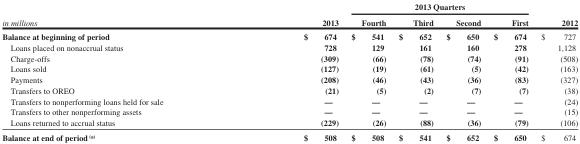table: (1, 1, 577, 141)
table column: (1, 1, 232, 141), (232, 1, 344, 141), (391, 1, 439, 141), (486, 1, 534, 141), (344, 1, 391, 141), (439, 1, 486, 141), (534, 1, 577, 141)
table column header: (1, 1, 577, 28)
table row: (1, 13, 577, 28), (1, 28, 577, 41), (1, 116, 577, 129), (1, 1, 577, 13), (1, 129, 577, 141), (1, 41, 577, 52), (1, 52, 577, 63), (1, 73, 577, 84), (1, 84, 577, 95), (1, 105, 577, 116), (1, 63, 577, 73), (1, 95, 577, 105)
table spanning cell: (1, 1, 232, 28), (232, 1, 344, 28), (344, 1, 534, 13), (534, 1, 577, 28)
